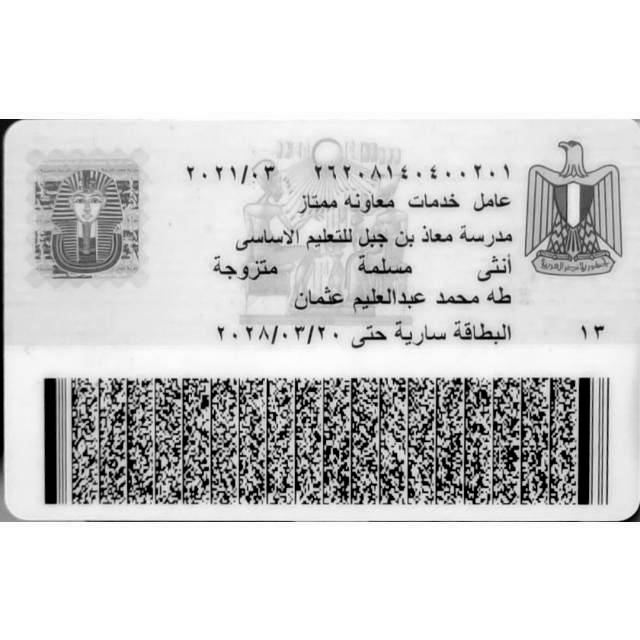id_card: (3, 121, 639, 519)
